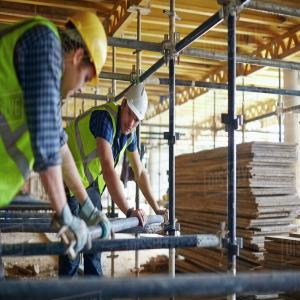white: (122, 87, 148, 134)
yellow: (61, 11, 109, 99)
